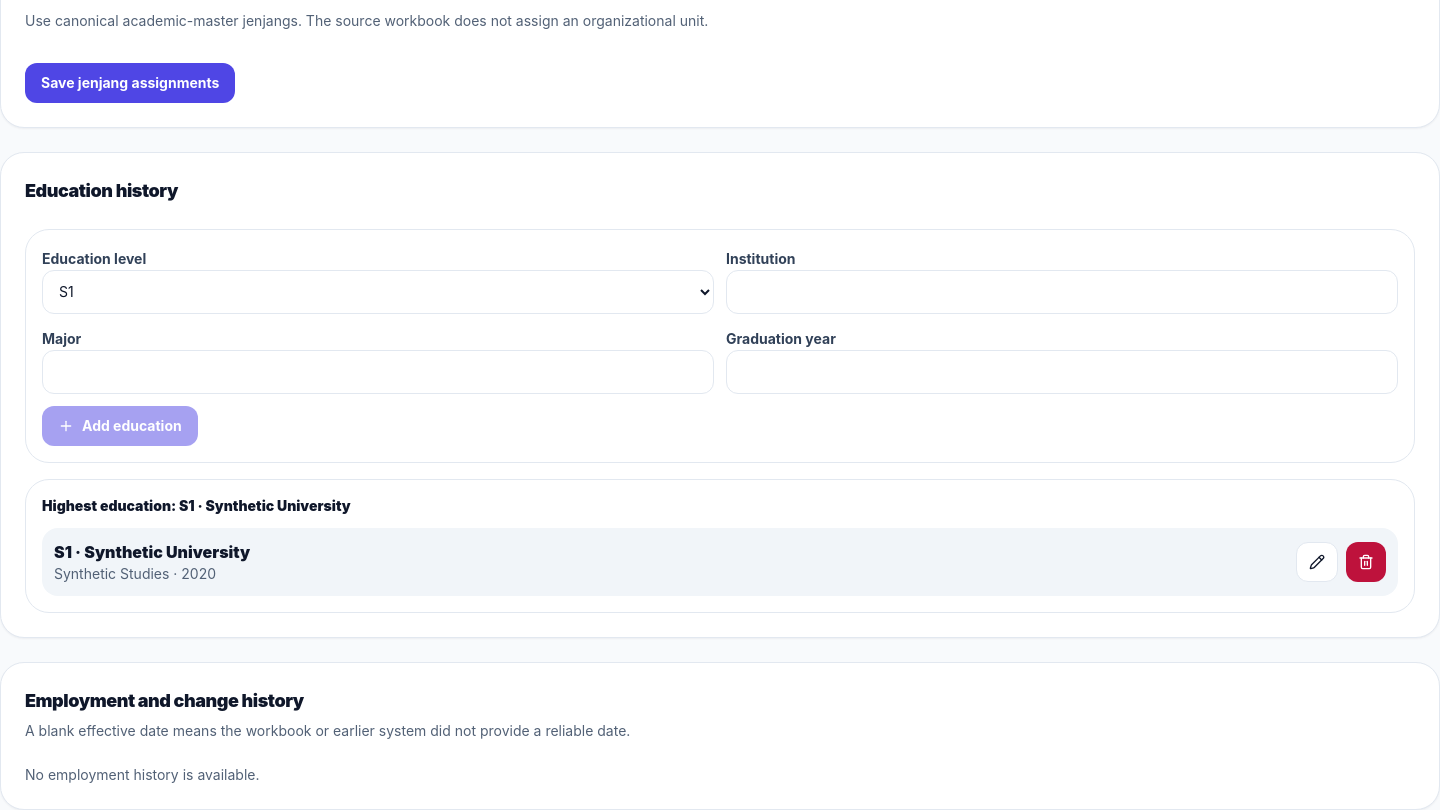
Test: Staff Detail education deletion › keeps the record visible and shows the sanitized error on API failure
(page scrolled)
Click the button named "Delete education record S1".
click(1366, 562)  # box [1346,542,1386,582]
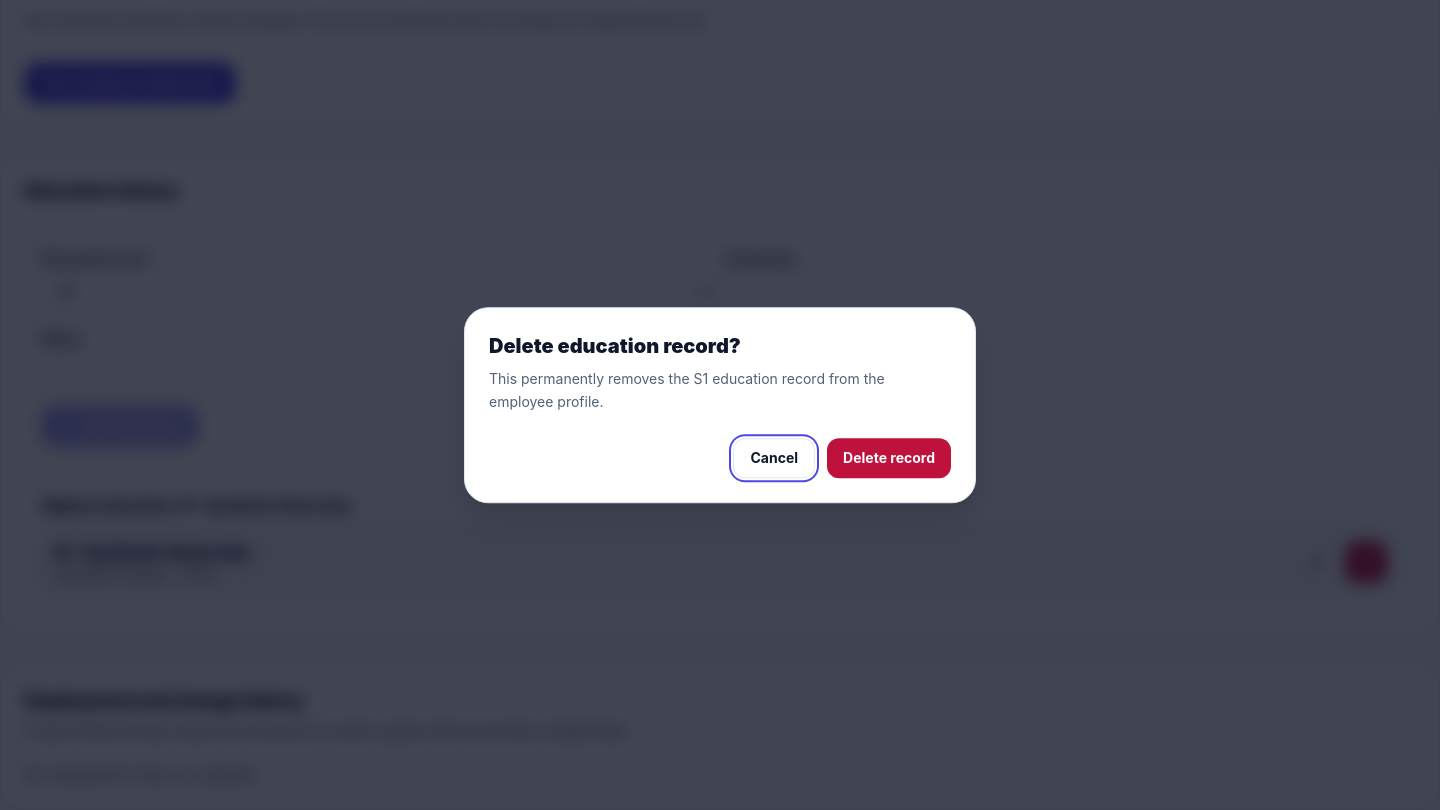
Click the button "Delete record".
click(889, 458)  # box [827,438,951,478]
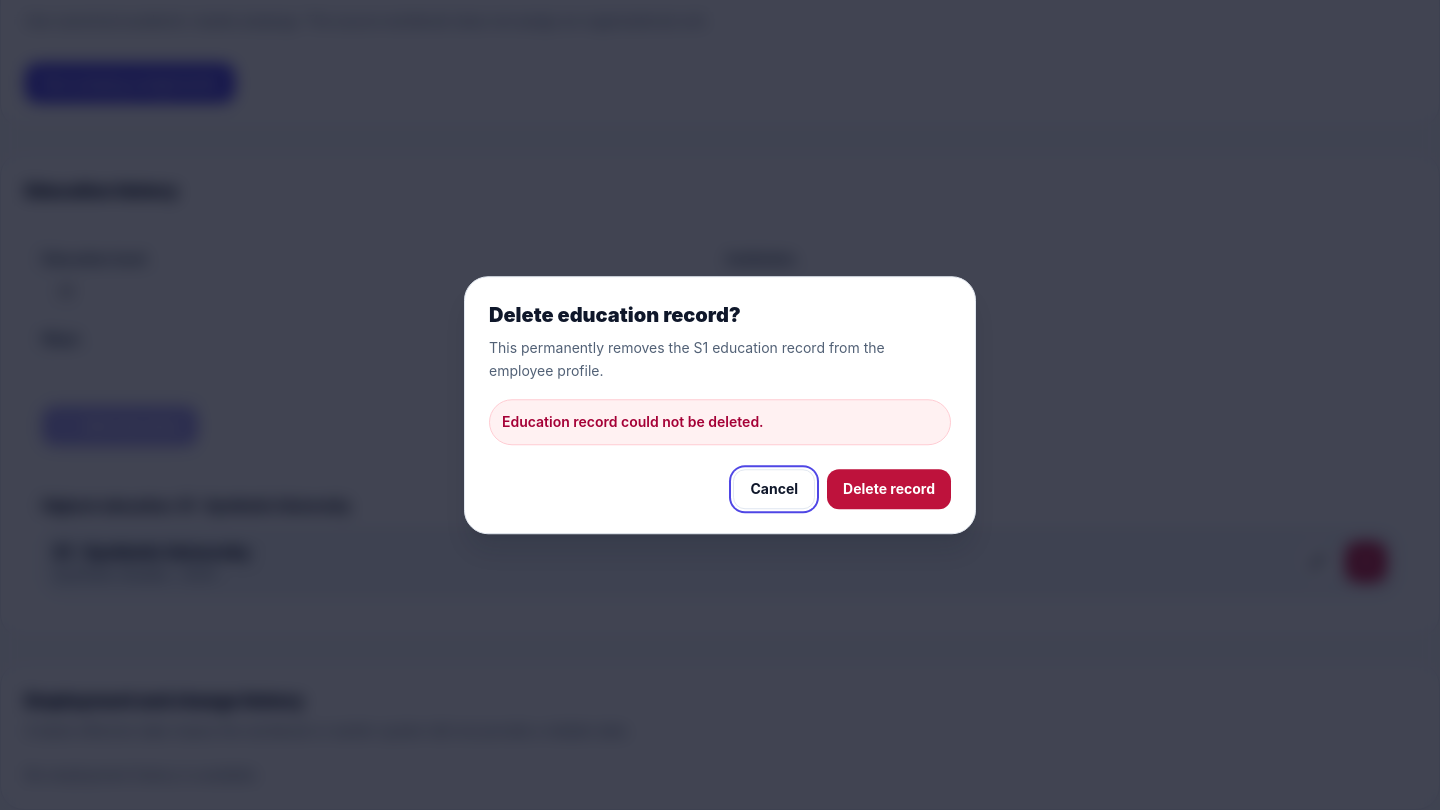
Now the dialog is shown, box [464,276,976,534]
Now the message "Education record could not be deleted." is shown, box [489,399,951,445]
Click the button "Cancel".
click(774, 489)  # box [734,469,815,509]
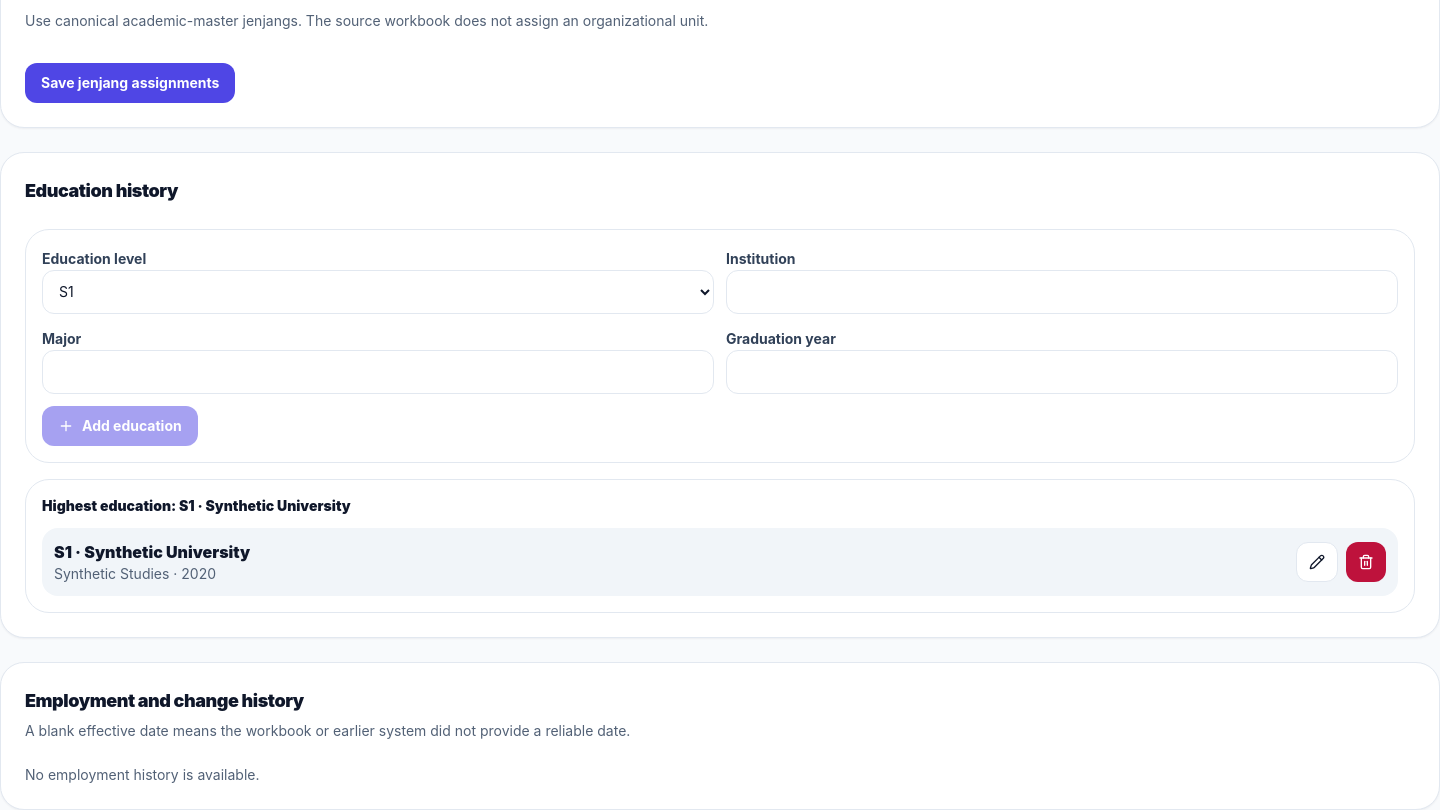
Expected: the button named "Delete education record S1" is shown, [1346,542,1386,582]
Now the dialog is gone
